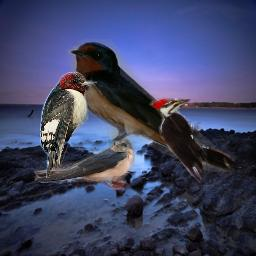Swallow: (66, 39, 234, 172), (34, 135, 135, 190)
Woodpecker: (149, 98, 247, 183), (40, 72, 98, 178)
